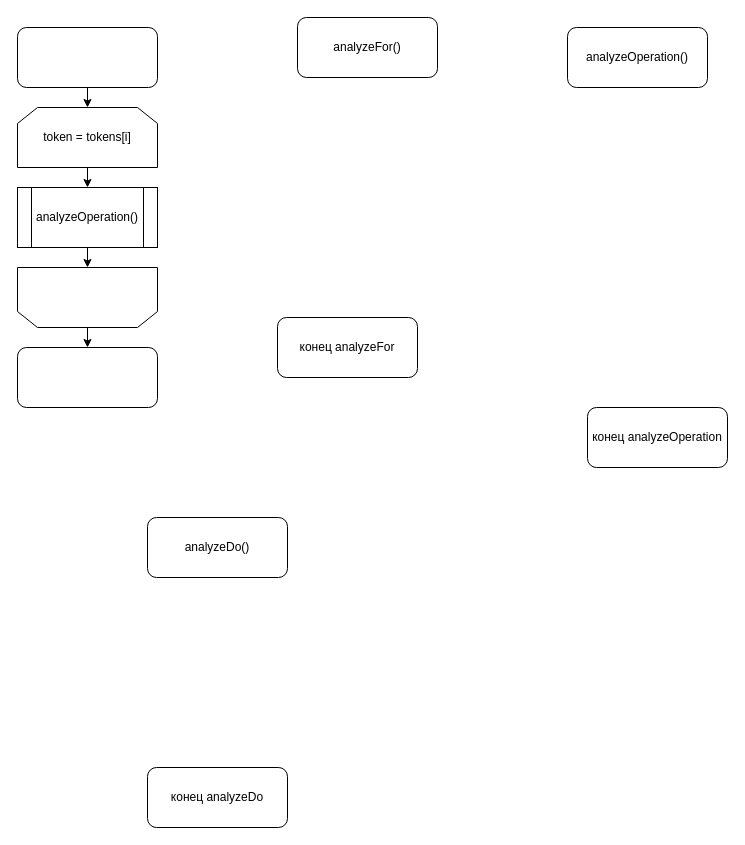
The diagram is 745 pixels wide and 845 high, and some of its shapes have lost their labels. Each missing label, with the centre of its shape:
"syntaxer.analyze()" goes at point (87, 57).
"конец analyze" goes at point (87, 377).
